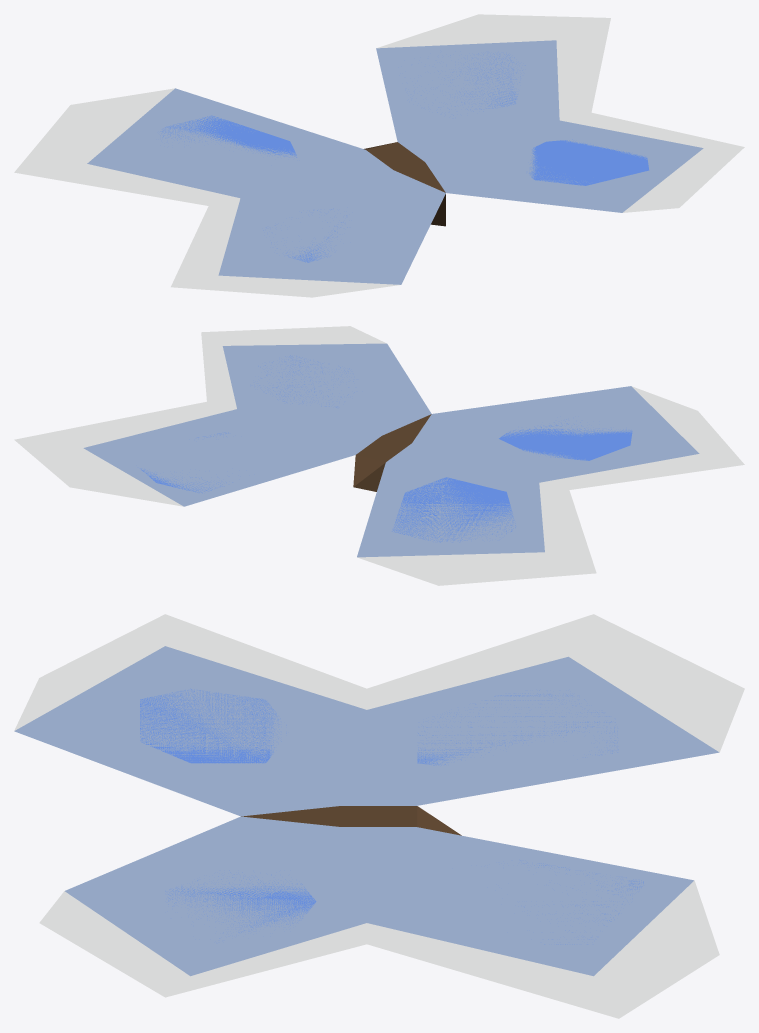
The model's file is npc_world_butterfly_5_0.obj.
3 views of the same model, one above another, from view 1: azimuth 30°, elevation 25°; view 2: azimuth 150°, elevation 25°; view 3: azimuth 270°, elevation 25° (orthographic). The views are drawn at different scales.
Size of the model in its own units: 0.2969 by 0.0234 by 0.2266.
